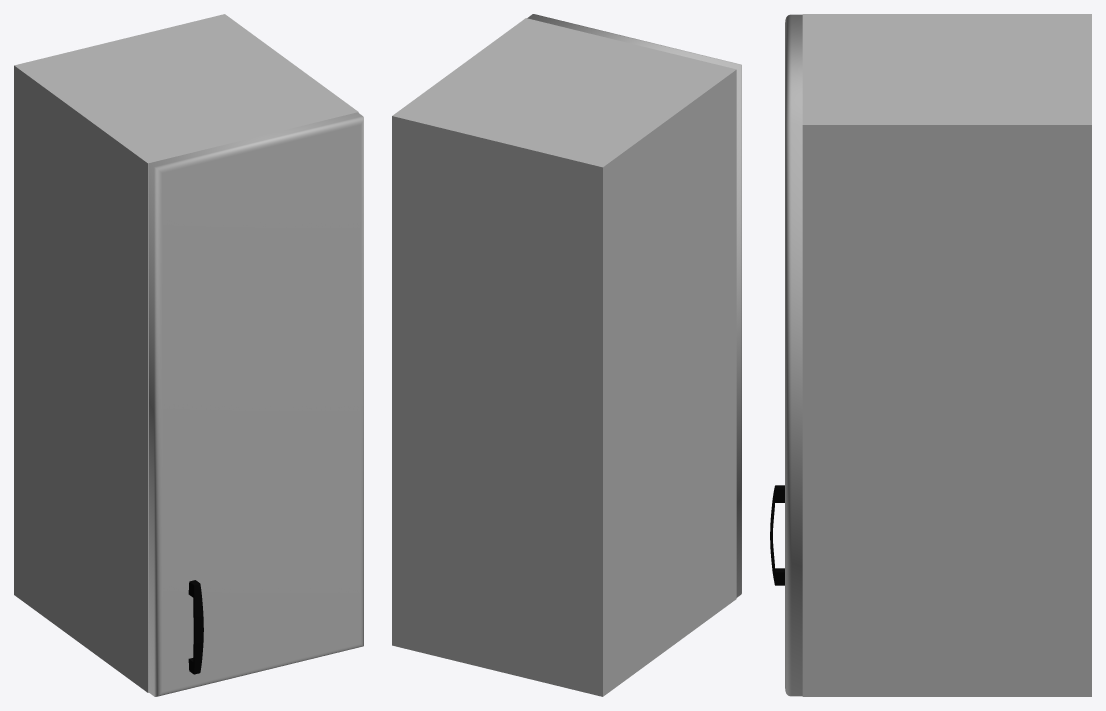
3 renders of one model, left to right at view 1: azimuth 30°, elevation 25°; view 2: azimuth 150°, elevation 25°; view 3: azimuth 270°, elevation 25°, orthographic. The views are drawn at different scales.
Parts seen in each view (by area): view 1: Box011, Box001, Obj3d66-503491-2-344; view 2: Box001, Box011; view 3: Box001, Box011, Obj3d66-503491-2-344.
Boxes of the visible parts, <box> form: Box011: <box>149,112,363,696</box>; Box001: <box>14,14,358,692</box>; Obj3d66-503491-2-344: <box>188,580,203,674</box>; Box001: <box>392,18,736,696</box>; Box011: <box>527,14,741,597</box>; Box001: <box>802,14,1091,696</box>; Box011: <box>785,14,802,696</box>; Obj3d66-503491-2-344: <box>770,485,784,585</box>.
Bounding box in the file's own units: 0.3 × 0.72 × 0.3671.
Materials: 2 (1 with a texture image).
